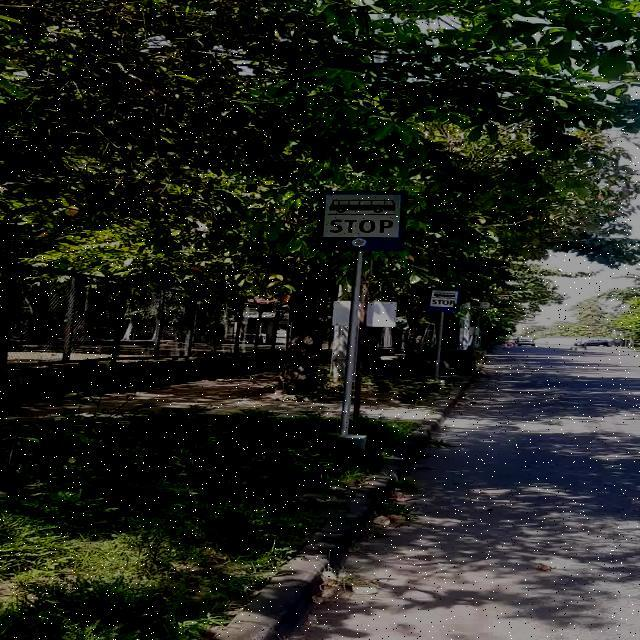Pemberhentian Bus: (316, 191, 408, 251)
